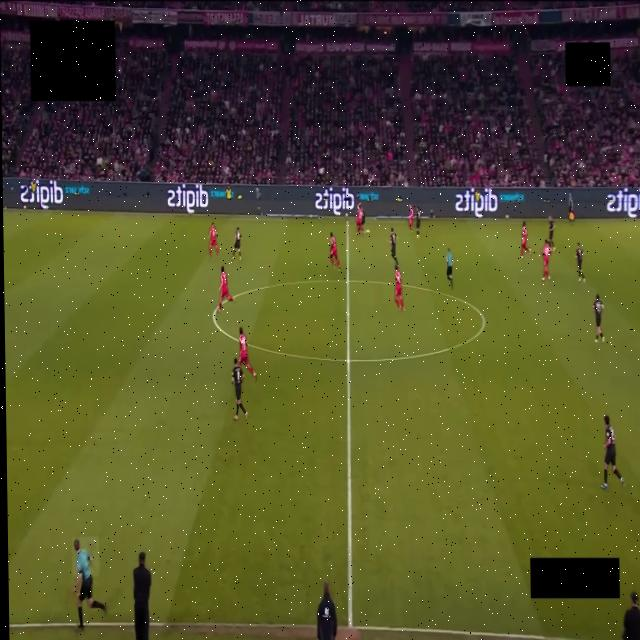ball: (365, 230, 368, 233)
player: (601, 416, 624, 489), (231, 359, 247, 420), (238, 327, 256, 380), (217, 266, 232, 311), (593, 295, 603, 343), (394, 266, 404, 311), (329, 232, 340, 270), (541, 240, 551, 281), (520, 222, 530, 258), (575, 243, 584, 282), (231, 227, 241, 260), (389, 228, 397, 268), (208, 224, 218, 255), (548, 216, 554, 251), (416, 206, 422, 239), (356, 204, 362, 234), (358, 204, 364, 230), (408, 203, 413, 231)
referee: (446, 248, 453, 289)
